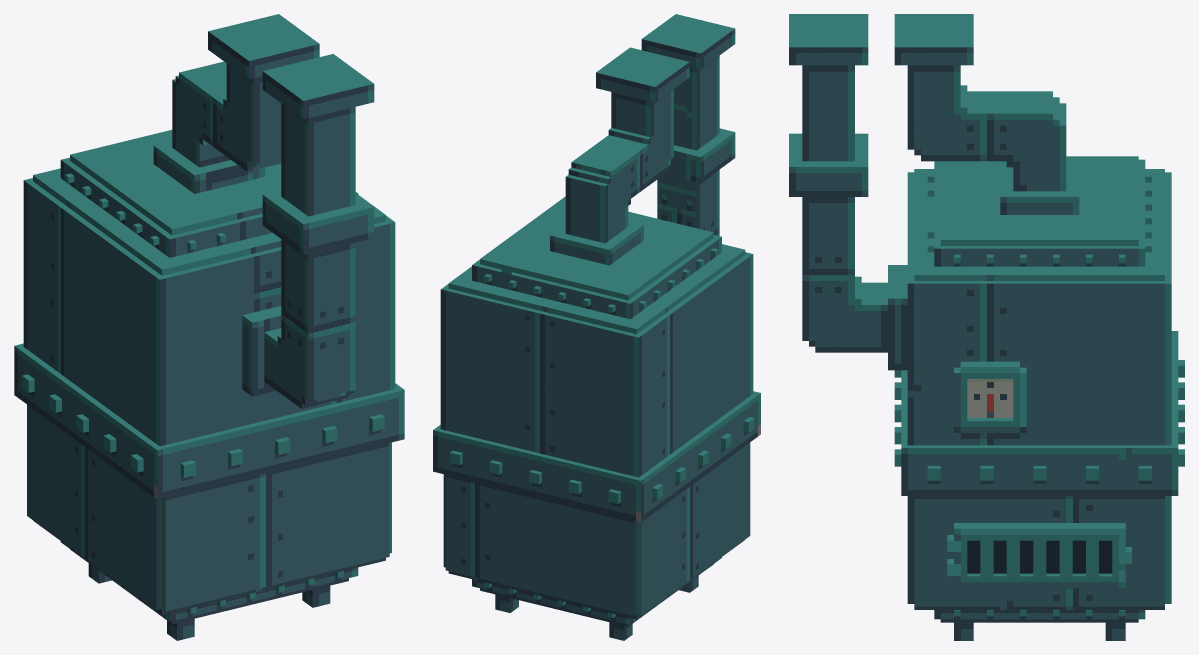
The model's file is int_boiler_nuzuao.fezao.glb.
3 renders of one model, left to right at view 1: azimuth 30°, elevation 25°; view 2: azimuth 150°, elevation 25°; view 3: azimuth 270°, elevation 25°, orthographic. The views are drawn at different scales.
Parts seen in each view (by area): view 1: INT_BOILER_NUZUAO; view 2: INT_BOILER_NUZUAO; view 3: INT_BOILER_NUZUAO.
Part boxes in pixels (<box>): INT_BOILER_NUZUAO: <box>14,14,404,640</box>; INT_BOILER_NUZUAO: <box>433,14,760,640</box>; INT_BOILER_NUZUAO: <box>789,14,1184,640</box>.
Size of the model in its own units: 2.75 by 6 by 3.75.
1 material, 1 textured.
